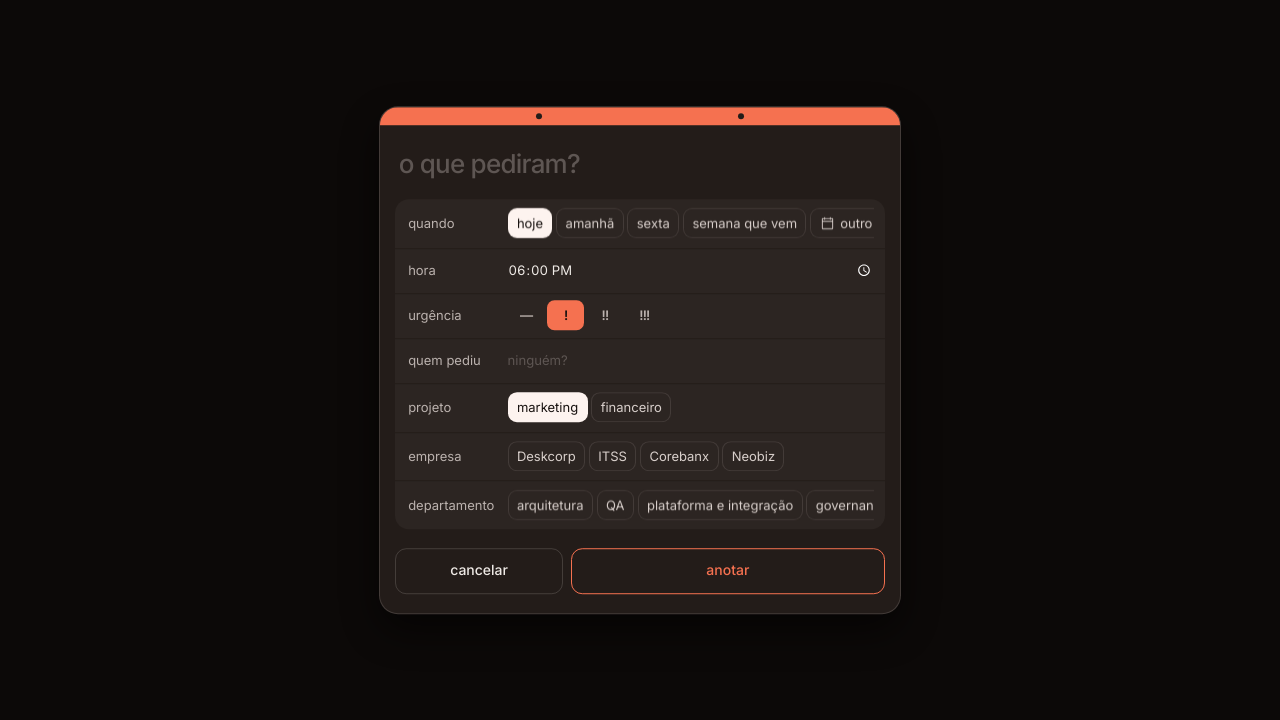
NewDemandDialog › título vazio mostra a bronca e não salva
The image size is (1280, 720).
Click the button "anotar". click: [728, 571]
box: x1=571 y1=548 x2=885 y2=594
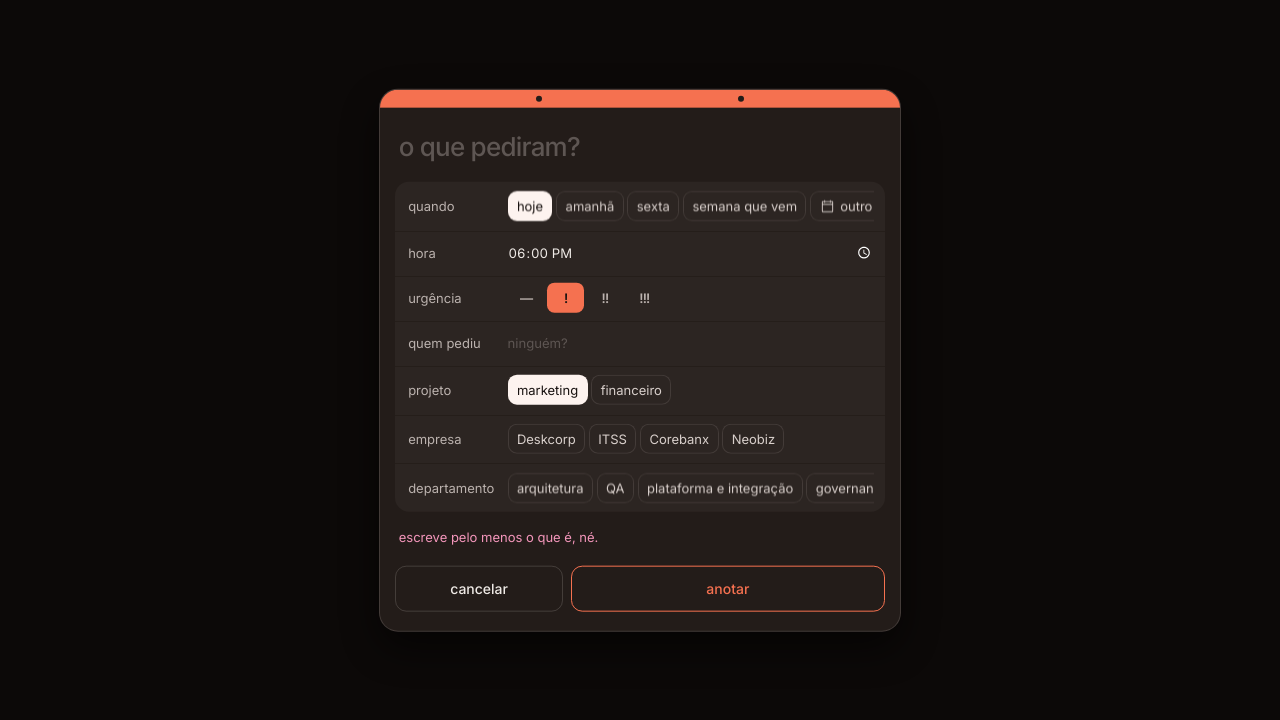
Expected: the message reads "escreve pelo menos o que é, né.", x1=399 y1=529 x2=598 y2=545
